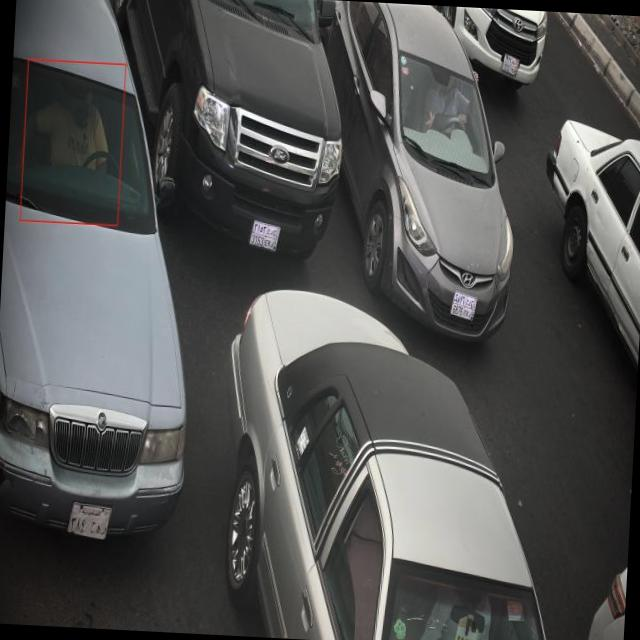person_without_seatbelt: (26, 64, 121, 203)
